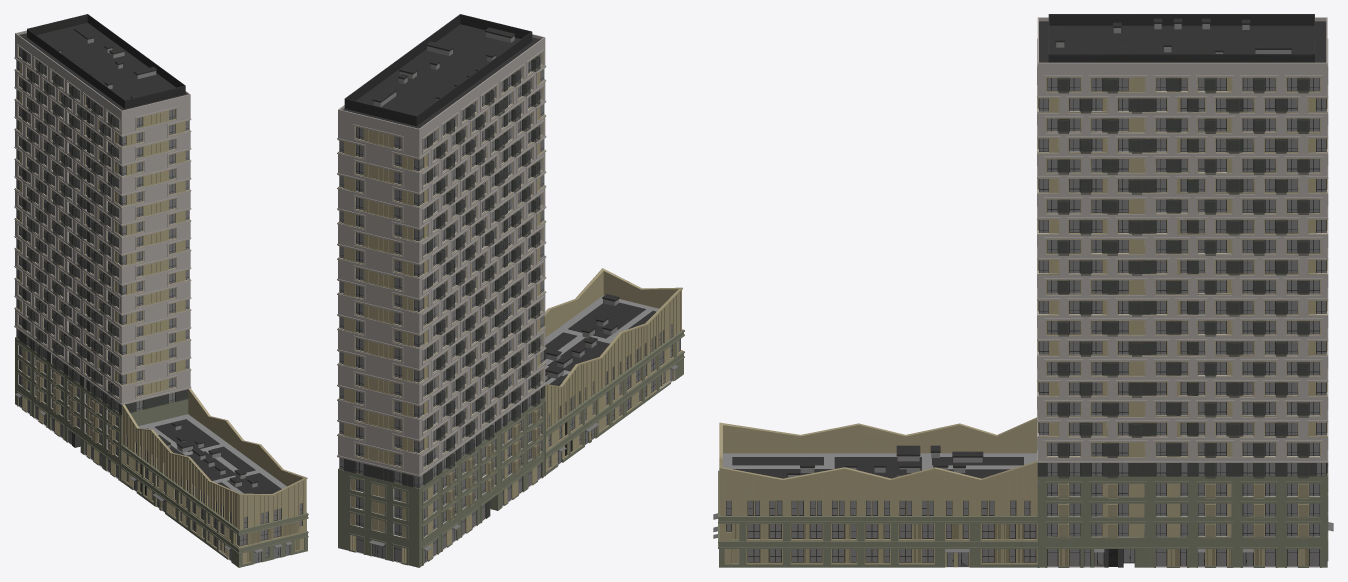
The model's file is House_Low_Full.glb.
3 renders of one model, left to right at view 1: azimuth 30°, elevation 25°; view 2: azimuth 150°, elevation 25°; view 3: azimuth 270°, elevation 25°, orthographic. The views are drawn at different scales.
Parts seen in each view (by area): view 1: Full; view 2: Full; view 3: Full.
Part boxes in pixels (box(x1,y1,x2,y2)): Full: box(14, 14, 308, 567); Full: box(337, 14, 684, 567); Full: box(713, 14, 1333, 567).
Size of the model in its own units: 17.06 by 80.79 by 88.6.
Materials: 1 (1 with a texture image).
